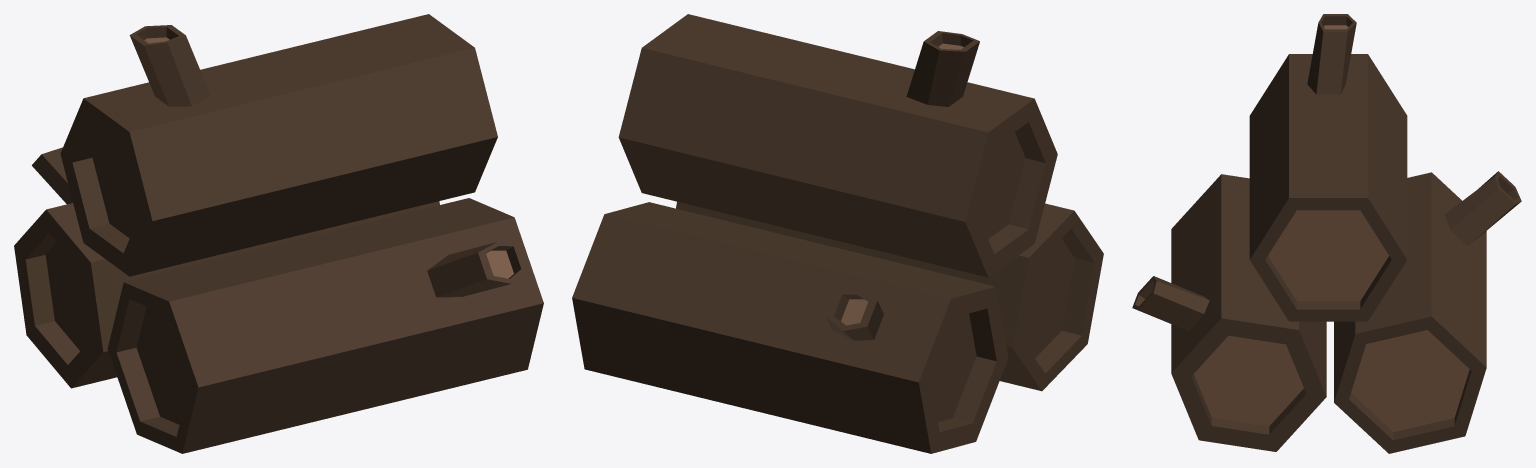
The model's file is Pine Item.fbx.
3 renders of one model, left to right at view 1: azimuth 30°, elevation 25°; view 2: azimuth 150°, elevation 25°; view 3: azimuth 270°, elevation 25°, orthographic. The views are drawn at different scales.
Parts seen in each view (by area): view 1: Cylinder.002; view 2: Cylinder.002; view 3: Cylinder.002.
Part boxes in pixels (x1,y1,x2,y2): Cylinder.002: (14, 14, 543, 453); Cylinder.002: (572, 14, 1103, 453); Cylinder.002: (1132, 14, 1521, 453).
Bounding box in the file's own units: 0.2372 × 0.238 × 0.2709.
